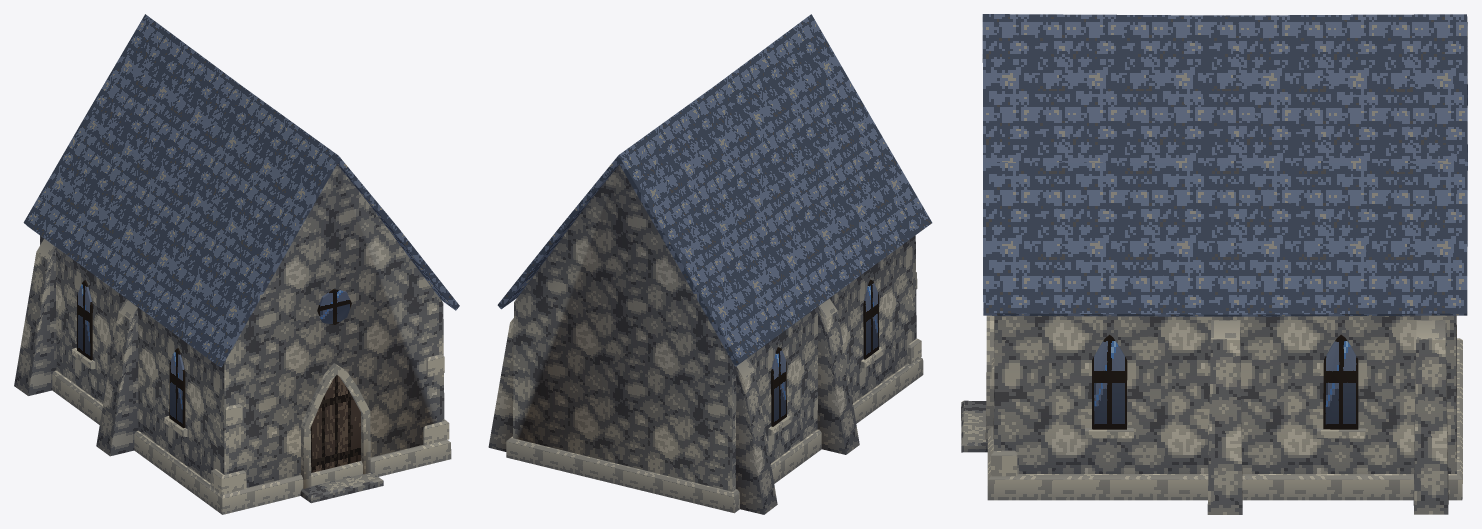
The model's file is vlg.chapel__plain.glb.
3 views of the same model, side by side, from view 1: azimuth 30°, elevation 25°; view 2: azimuth 150°, elevation 25°; view 3: azimuth 270°, elevation 25° (orthographic). The views are drawn at different scales.
Visible parts, largest first — view 1: kit_roof, kit_walls, kit_stonework, kit_fittings; view 2: kit_walls, kit_roof, kit_stonework, kit_fittings; view 3: kit_roof, kit_walls, kit_stonework, kit_fittings.
Part boxes in pixels (x1,y1,x2,y2): kit_roof: (23,14,459,367); kit_walls: (40,164,444,487); kit_stonework: (14,238,451,514); kit_fittings: (71,280,383,503); kit_walls: (513,165,916,491); kit_roof: (497,14,932,366); kit_stonework: (488,272,923,514); kit_fittings: (768,279,884,435); kit_roof: (982,14,1467,316); kit_walls: (993,315,1456,473); kit_stonework: (987,320,1462,514); kit_fittings: (961,315,1365,452).
Bounding box in the file's own units: 6.91 × 7.94 × 8.75.
6 materials, 6 textured.
